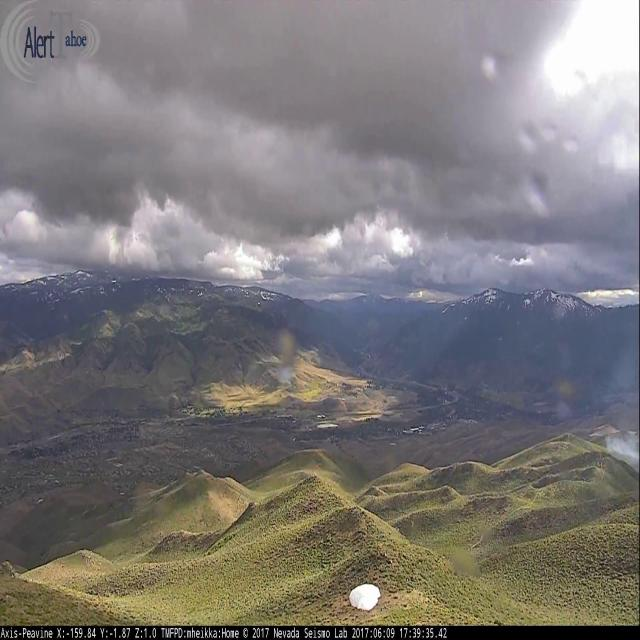smoke: (602, 435, 640, 457)
